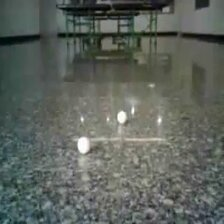w: (76, 135, 91, 154), (117, 110, 128, 123)
